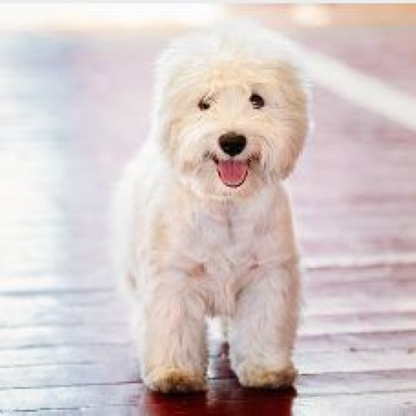maltese: (110, 24, 307, 393)
